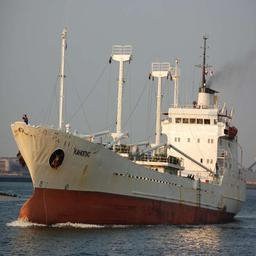Ship: (11, 38, 247, 231)
